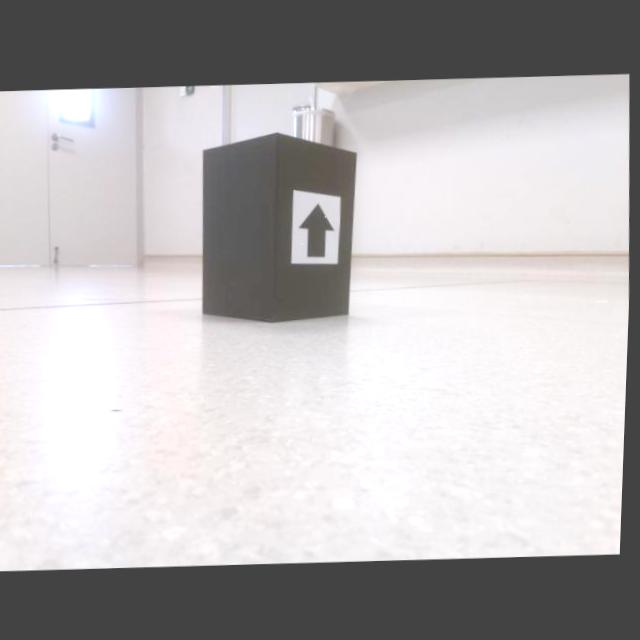UP: (299, 202, 337, 257)
